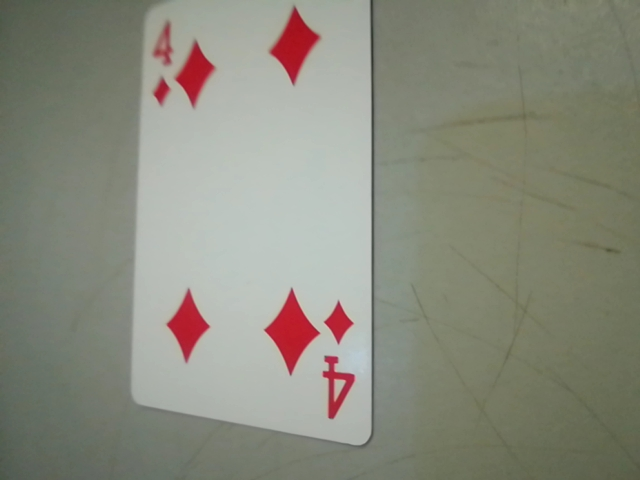fk 4: (310, 286, 366, 434)
